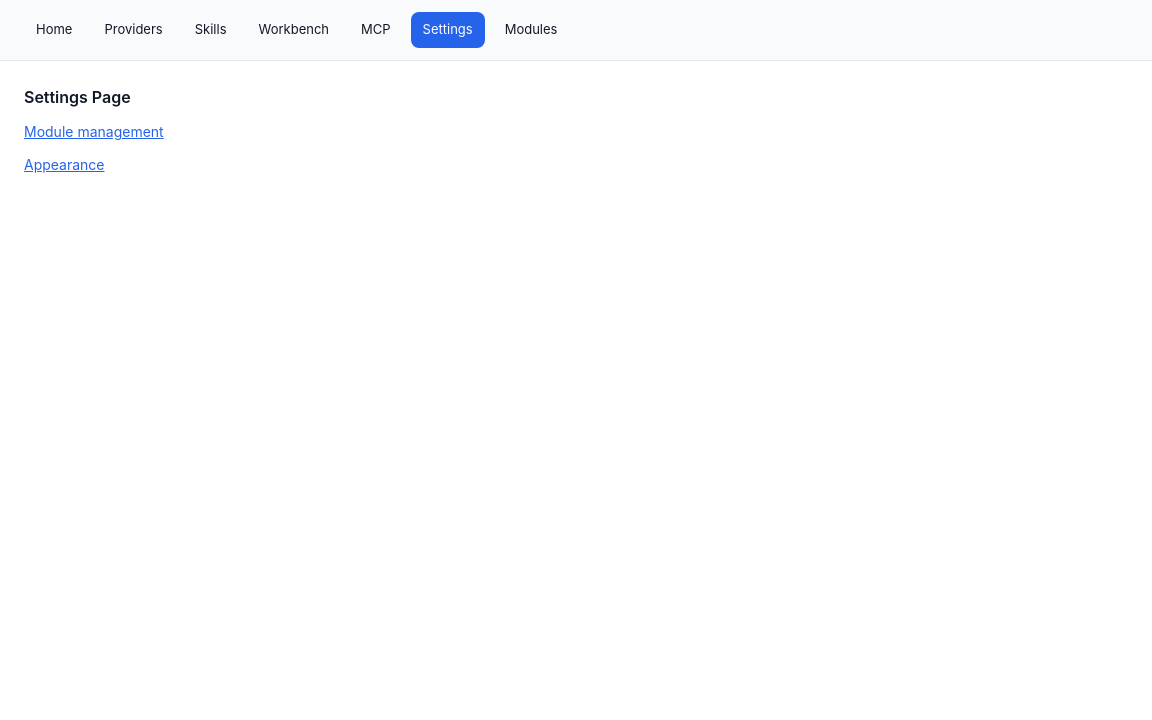
Test: route and entry › is reached from the Settings home link
Click the link "Appearance".
click(64, 164)  # box [24,154,104,174]
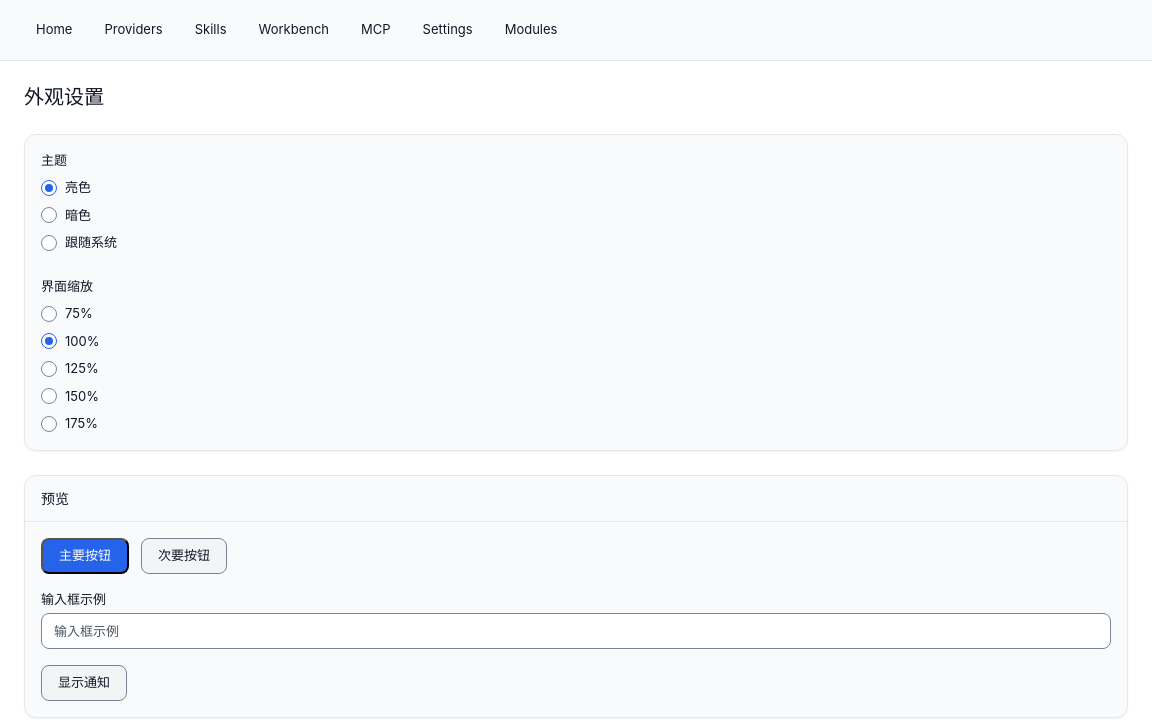
expect the heading "外观设置" is shown: met, box [24,84,104,108]
